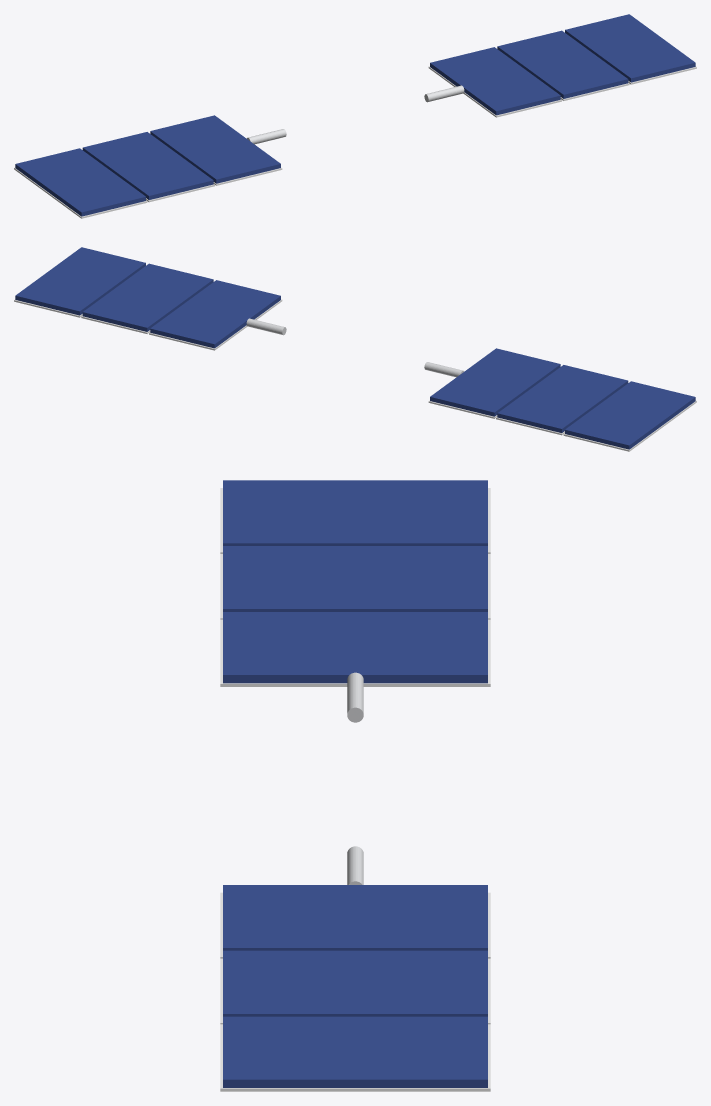
Rendered from pwr_deploy.fbx.
3 views of the same model, one above another, from view 1: azimuth 30°, elevation 25°; view 2: azimuth 150°, elevation 25°; view 3: azimuth 270°, elevation 25° (orthographic). The views are drawn at different scales.
Visible parts, largest first — view 1: pwr_deploy; view 2: pwr_deploy; view 3: pwr_deploy.
Boxes of the visible parts, <box> form: pwr_deploy: <box>14,14,696,218</box>; pwr_deploy: <box>14,247,696,451</box>; pwr_deploy: <box>220,480,490,1091</box>.
Size of the model in its own units: 4.29 by 0.05 by 0.816.
